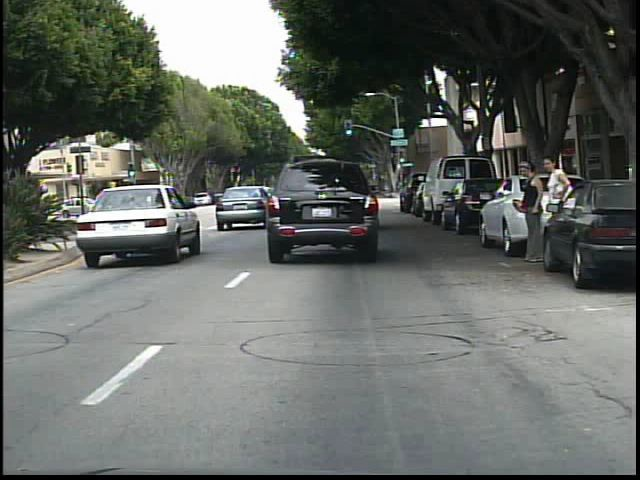person: (540, 152, 575, 260), (514, 160, 544, 267)
